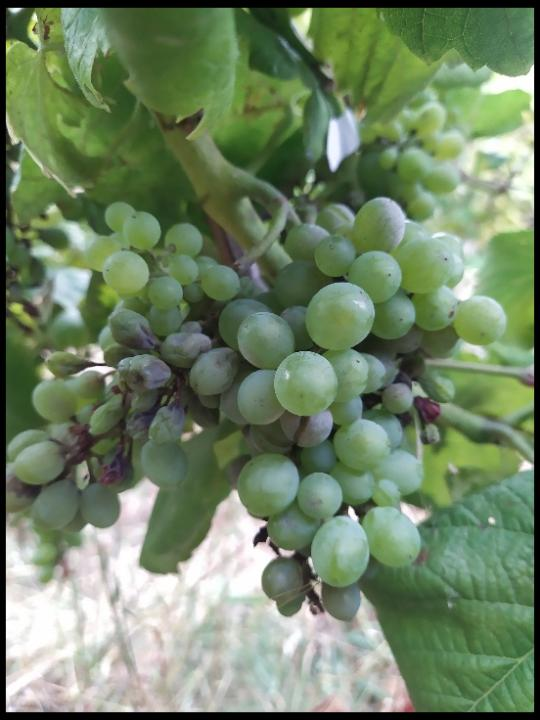grape: (22, 193, 509, 626)
